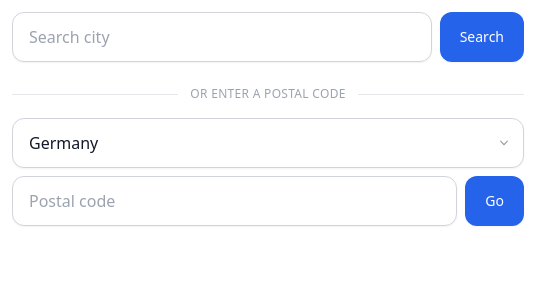
Test: LocationSearch › shows "No results found" for empty results
Type "asdfghjkl" into the field with placeholder "Search city" at (222, 37), box [12,12,432,62]
Then press Enter
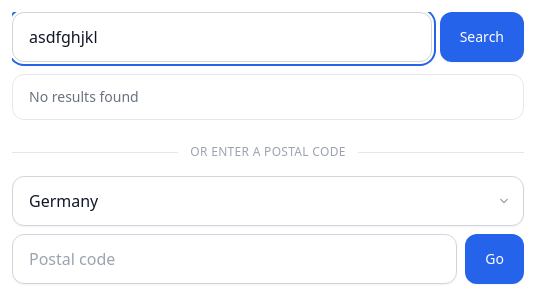
Expected: the list item "No results found" is shown, [29,87,139,106]
